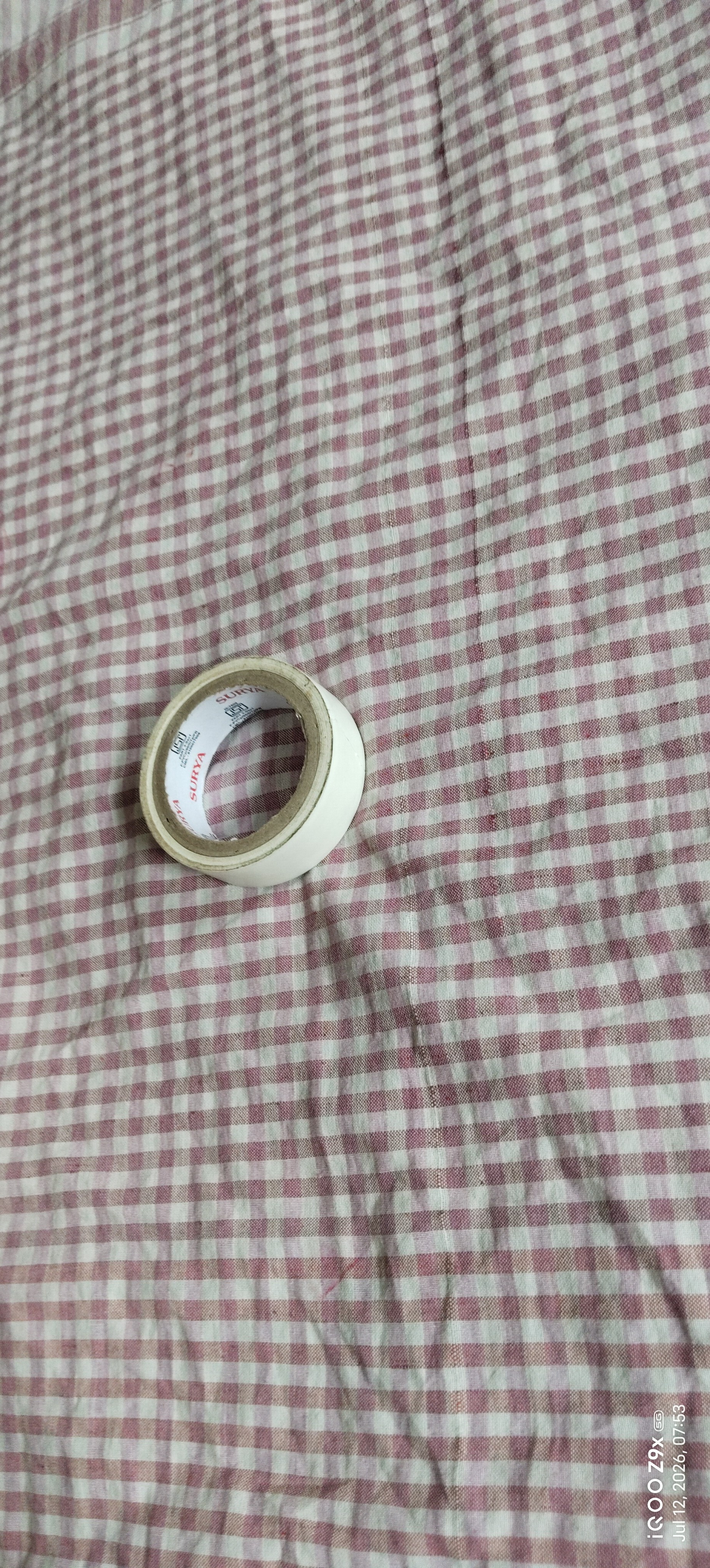tape_roll: (130, 641, 385, 904)
